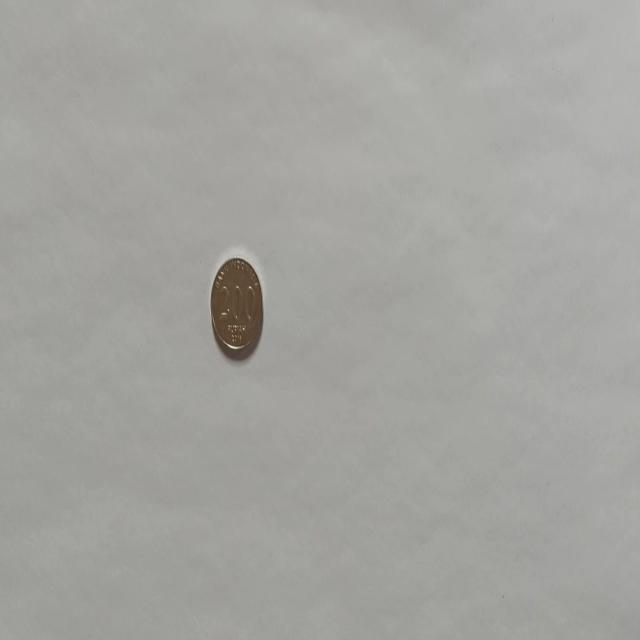dua ratus rupiah: (208, 254, 264, 358)
